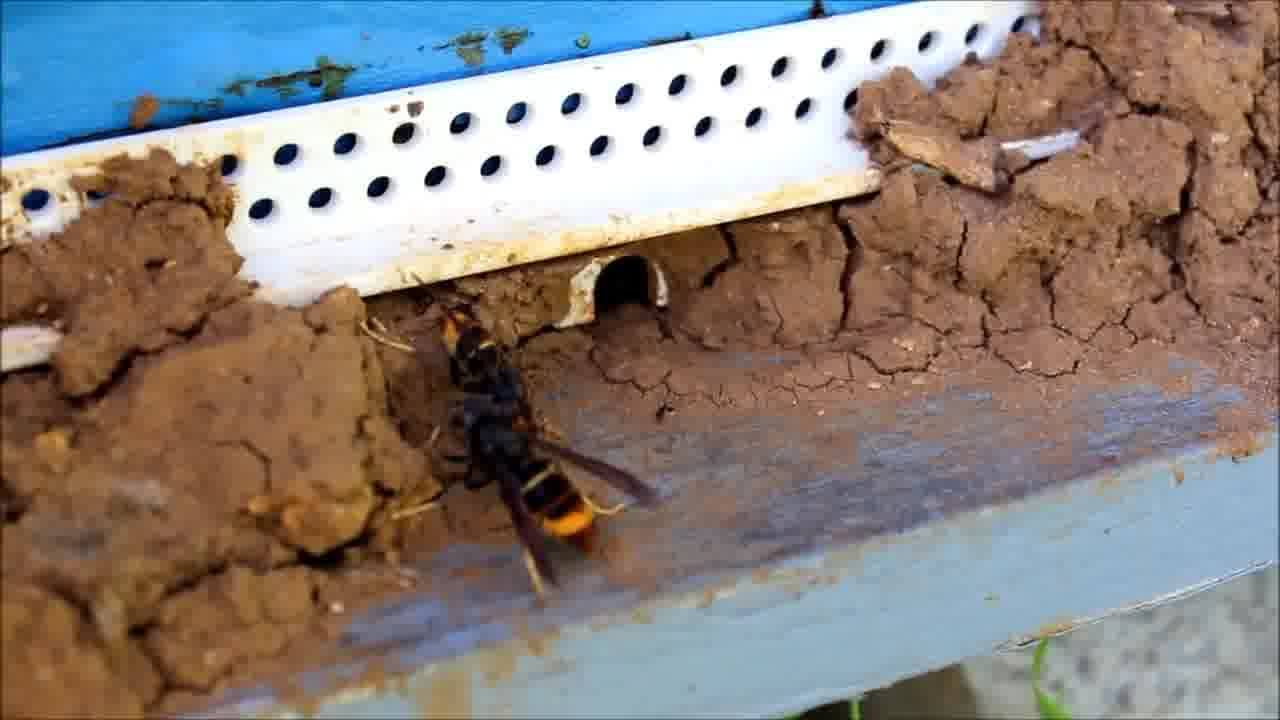hornet: (423, 398, 666, 582), (408, 301, 546, 436)
